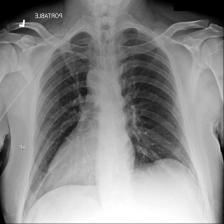normal: (20, 25, 209, 212)
